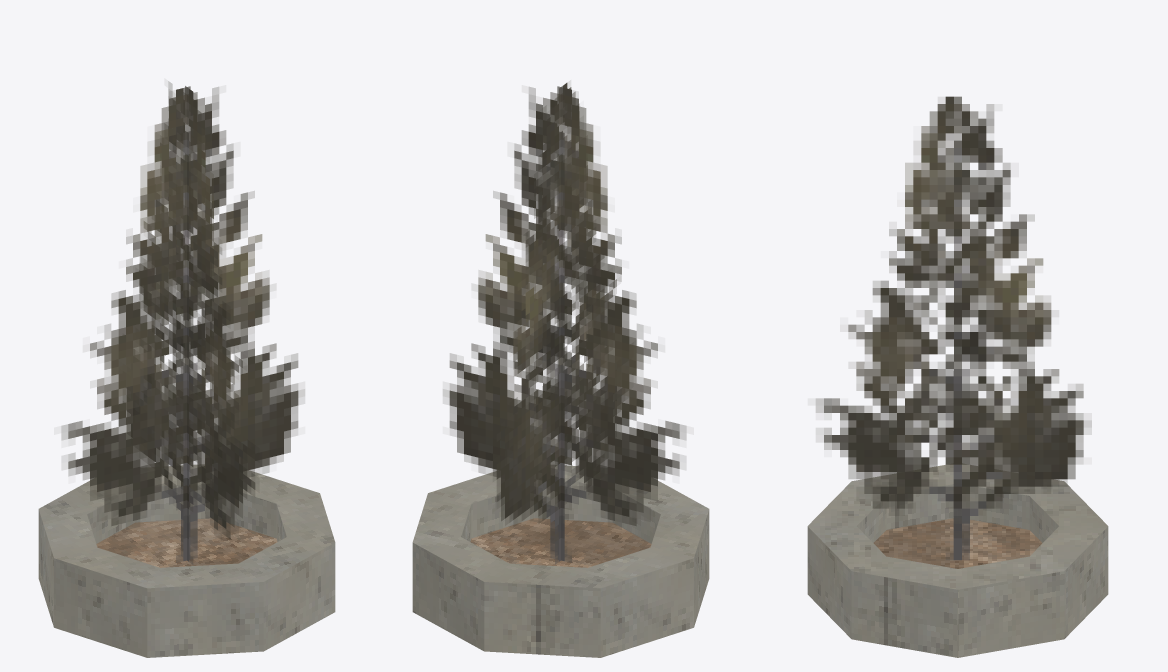
File: tree-park-pine-large.opt.glb
3 views of the same model, side by side, from view 1: azimuth 30°, elevation 25°; view 2: azimuth 150°, elevation 25°; view 3: azimuth 270°, elevation 25° (orthographic). The views are drawn at different scales.
Size of the model in its own units: 1.04 by 1.46 by 1.04.
Materials: 3 (3 with a texture image).
